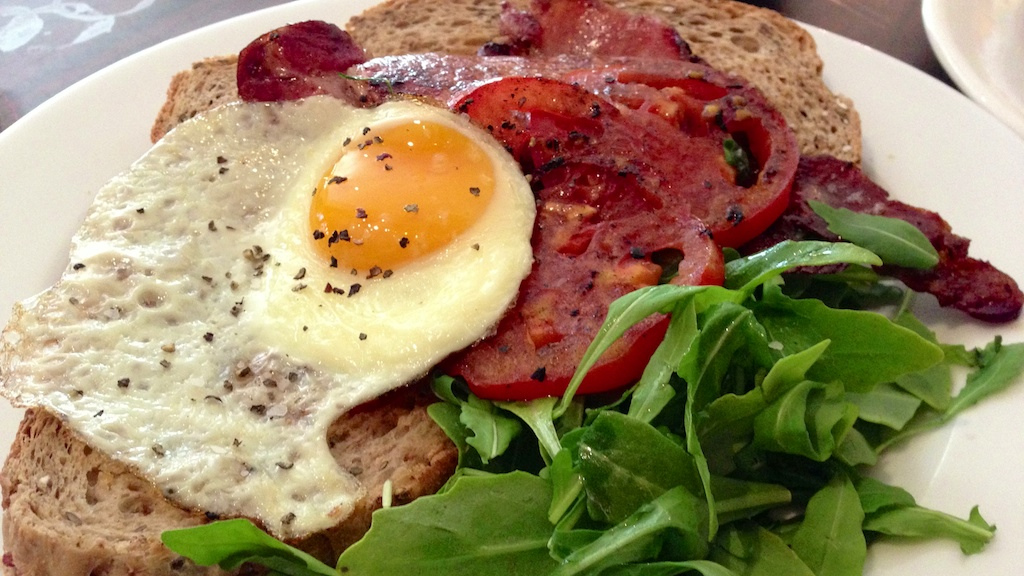chopped lettuce: (378, 279, 936, 576)
fried egg: (20, 116, 506, 458)
slice of bread: (1, 1, 846, 576)
